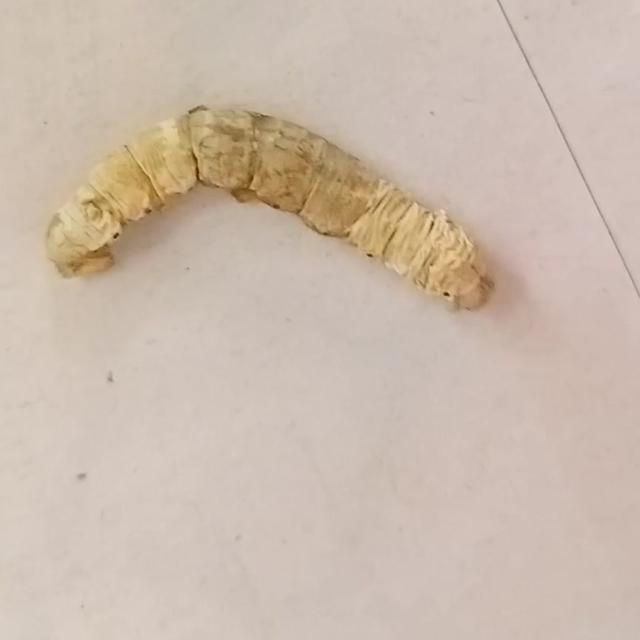Grasserie: (30, 76, 508, 368)
